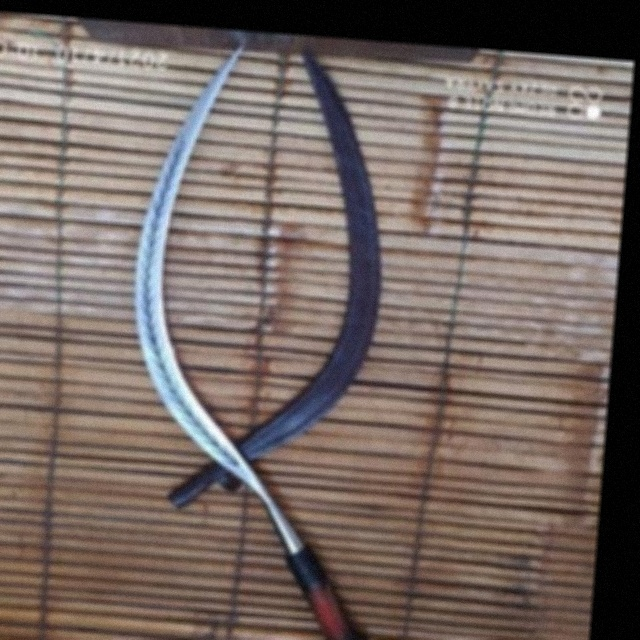Sharp-Object: (98, 40, 415, 640)
